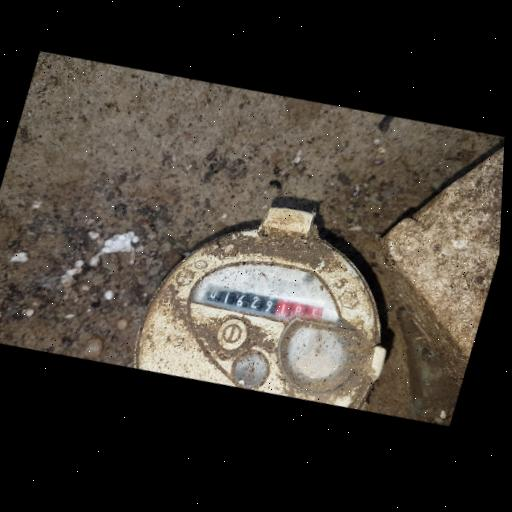0: (203, 284, 223, 303)
1: (218, 286, 238, 308), (274, 299, 293, 319)
2: (246, 292, 265, 313)
5: (304, 302, 325, 324)
6: (232, 289, 251, 310)
8: (289, 300, 309, 322)
9: (260, 296, 279, 316)
border_water_meter_number: (195, 271, 329, 338)
